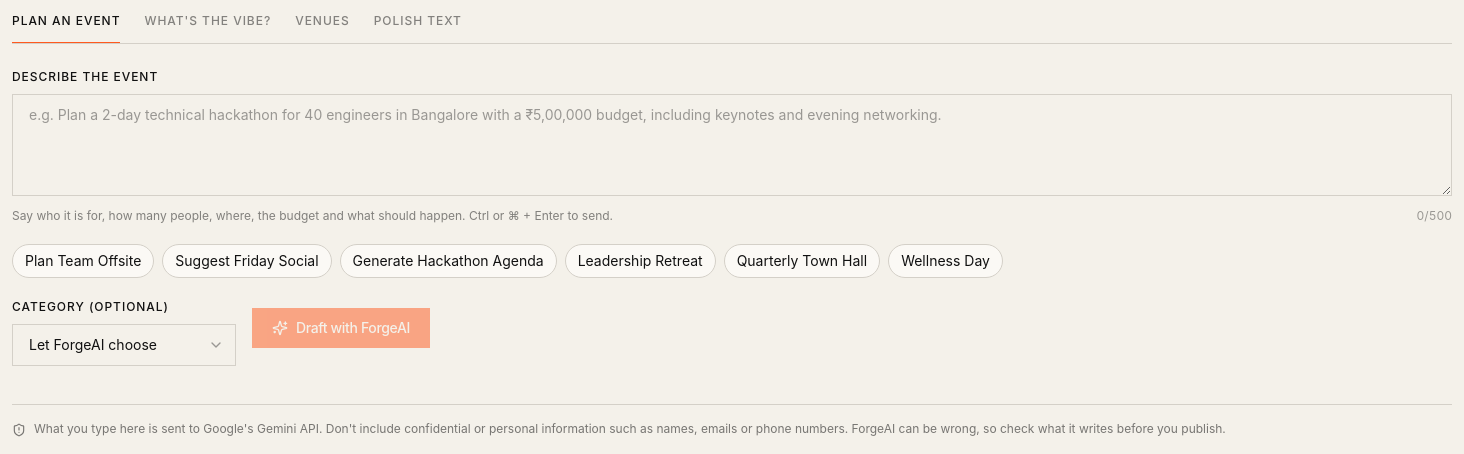
Test: ForgeAiPanel › Polish text › needs some text before it will rewrite
This screenshot has width=1464, height=454.
Click the tab "Polish text": (418, 28) x1=374 y1=12 x2=462 y2=44
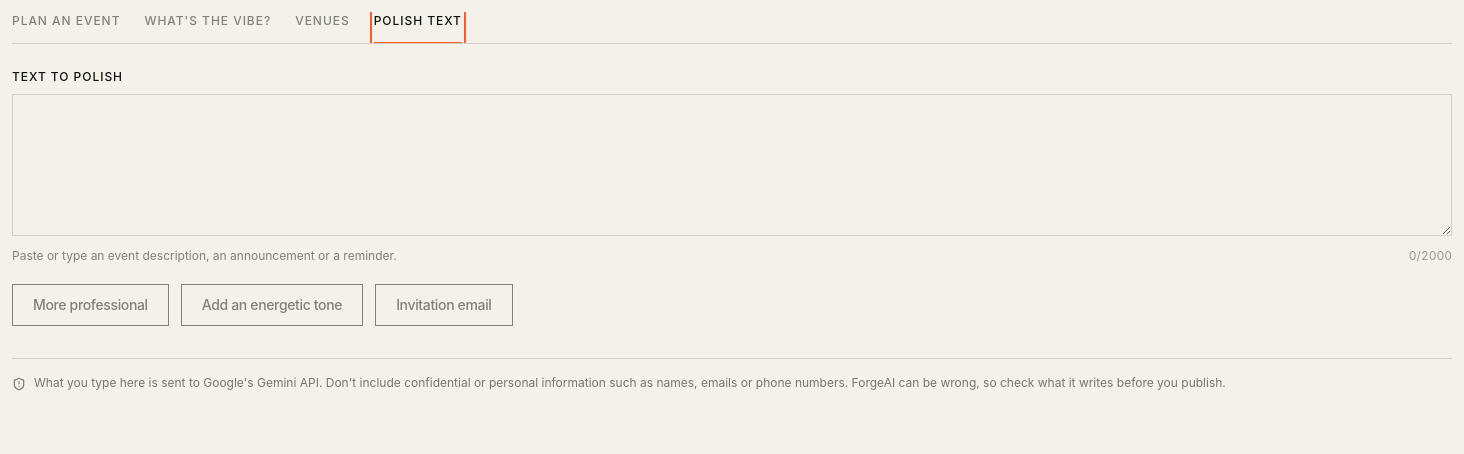
Result: the button "More professional" is disabled at x1=12 y1=284 x2=169 y2=326
